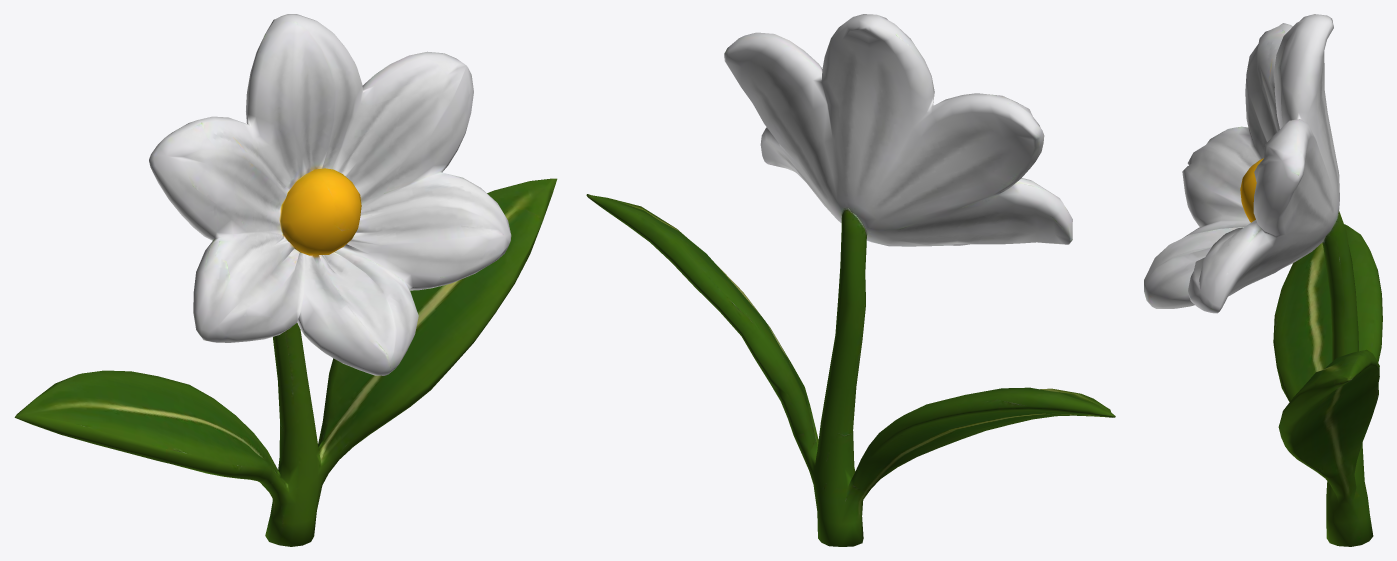
Rendered from pokedex_flora.glb.
The picture shows the model from 3 angles, left to right: view 1: azimuth 30°, elevation 25°; view 2: azimuth 150°, elevation 25°; view 3: azimuth 270°, elevation 25°; orthographic projection. The views are drawn at different scales.
Bounding box in the file's own units: 0.9575 × 0.897 × 0.3779.
Materials: 1 (1 with a texture image).
